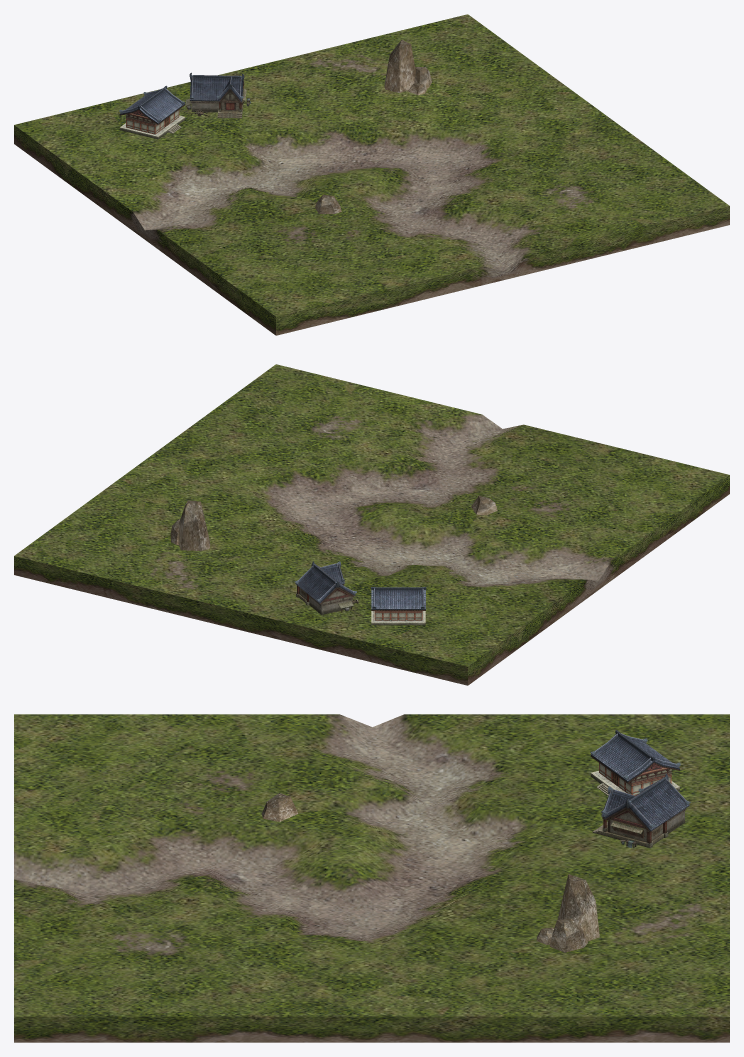
File: map003.FBX
The picture shows the model from 3 angles, top to bottom: view 1: azimuth 30°, elevation 25°; view 2: azimuth 150°, elevation 25°; view 3: azimuth 270°, elevation 25°; orthographic projection. The views are drawn at different scales.
Parts seen in each view (by area): view 1: map003, house188, house187, Box057; view 2: map003, house188, house187, Box057; view 3: map003, house188, Box057, house187.
Boxes of the visible parts, x1,y1,x2,y2 form: map003: [14, 14, 729, 335]; house188: [185, 72, 250, 118]; house187: [119, 85, 185, 139]; Box057: [315, 40, 431, 213]; map003: [14, 364, 729, 685]; house188: [294, 561, 358, 614]; house187: [371, 587, 426, 625]; Box057: [170, 496, 497, 550]; map003: [14, 714, 729, 1042]; house188: [592, 773, 690, 847]; Box057: [261, 793, 599, 952]; house187: [590, 730, 680, 795].
Bounding box in the file's own units: 100 × 12.89 × 100.
